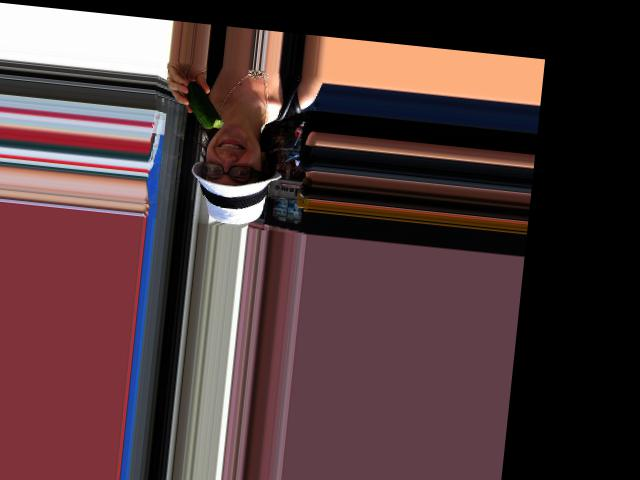cucumber: (182, 80, 226, 130)
